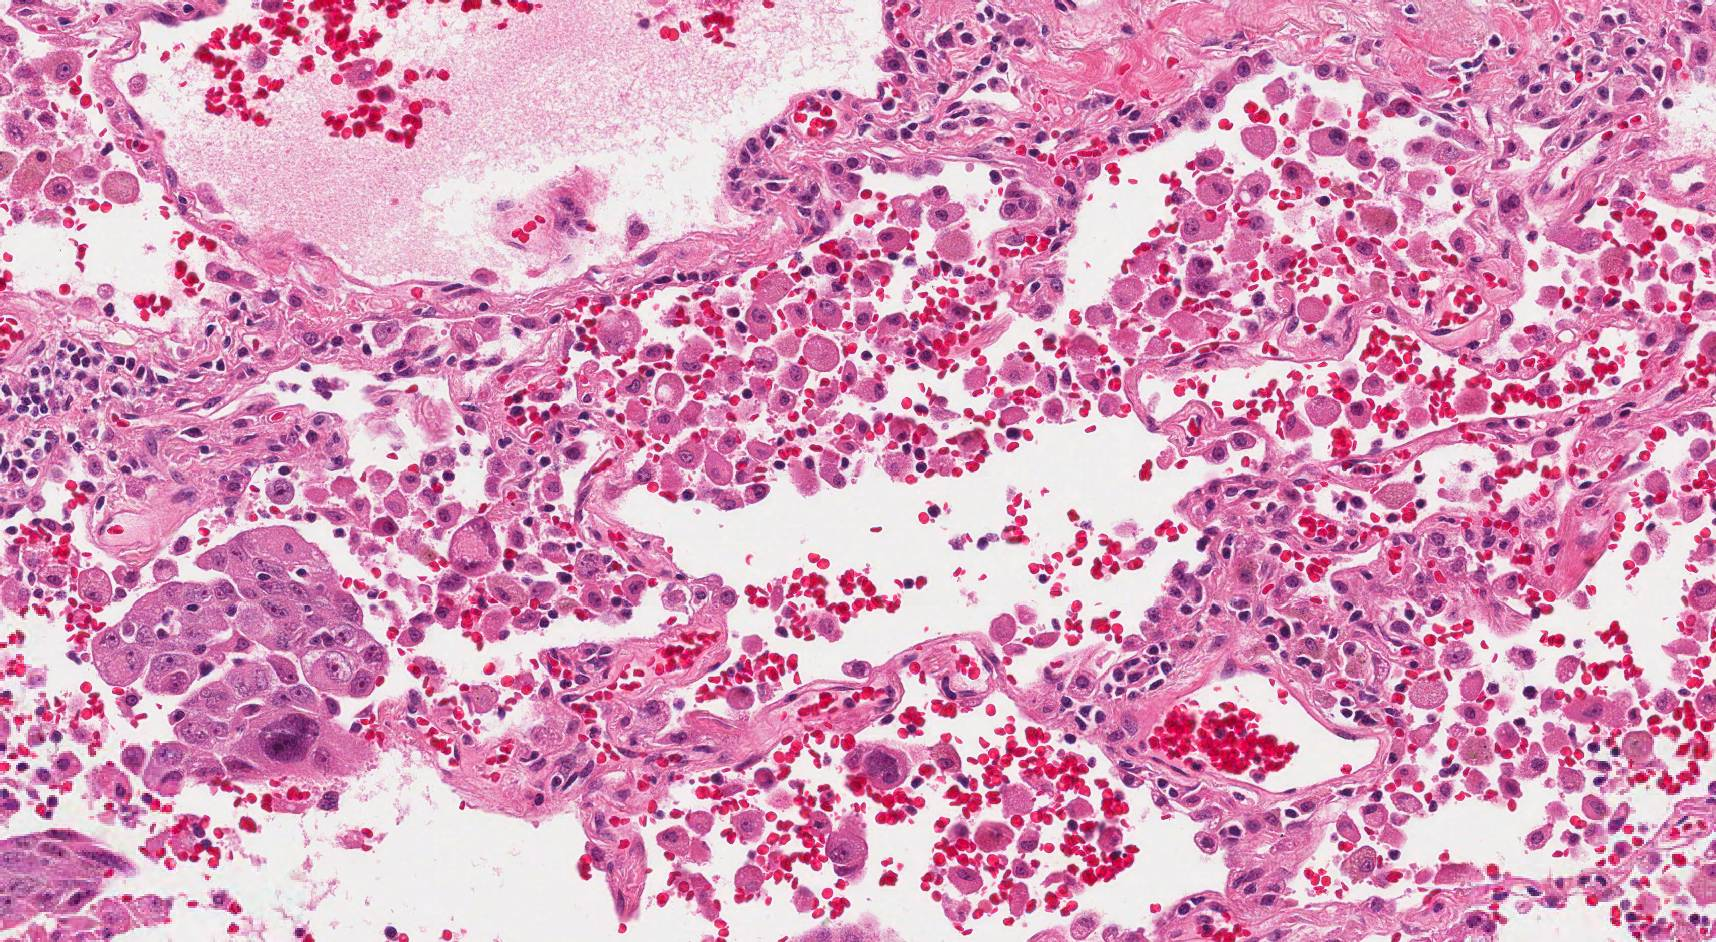stas: (93, 527, 388, 800)
